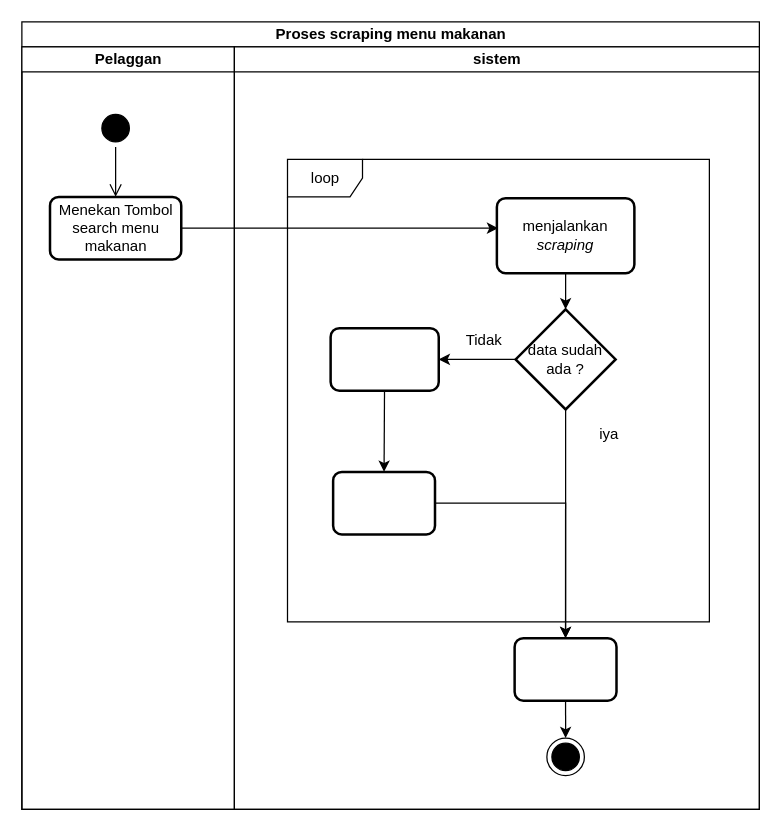
Image size: 781x831. Some labels were removed from this diagram. Here are the shapes that lost their labels. From the top down, the centre of each, then its label:
At point 384,358: "mengambil data".
At point 383,502: "menambahkan data ke databse".
At point 565,668: "menampilkan data sudah ada".
